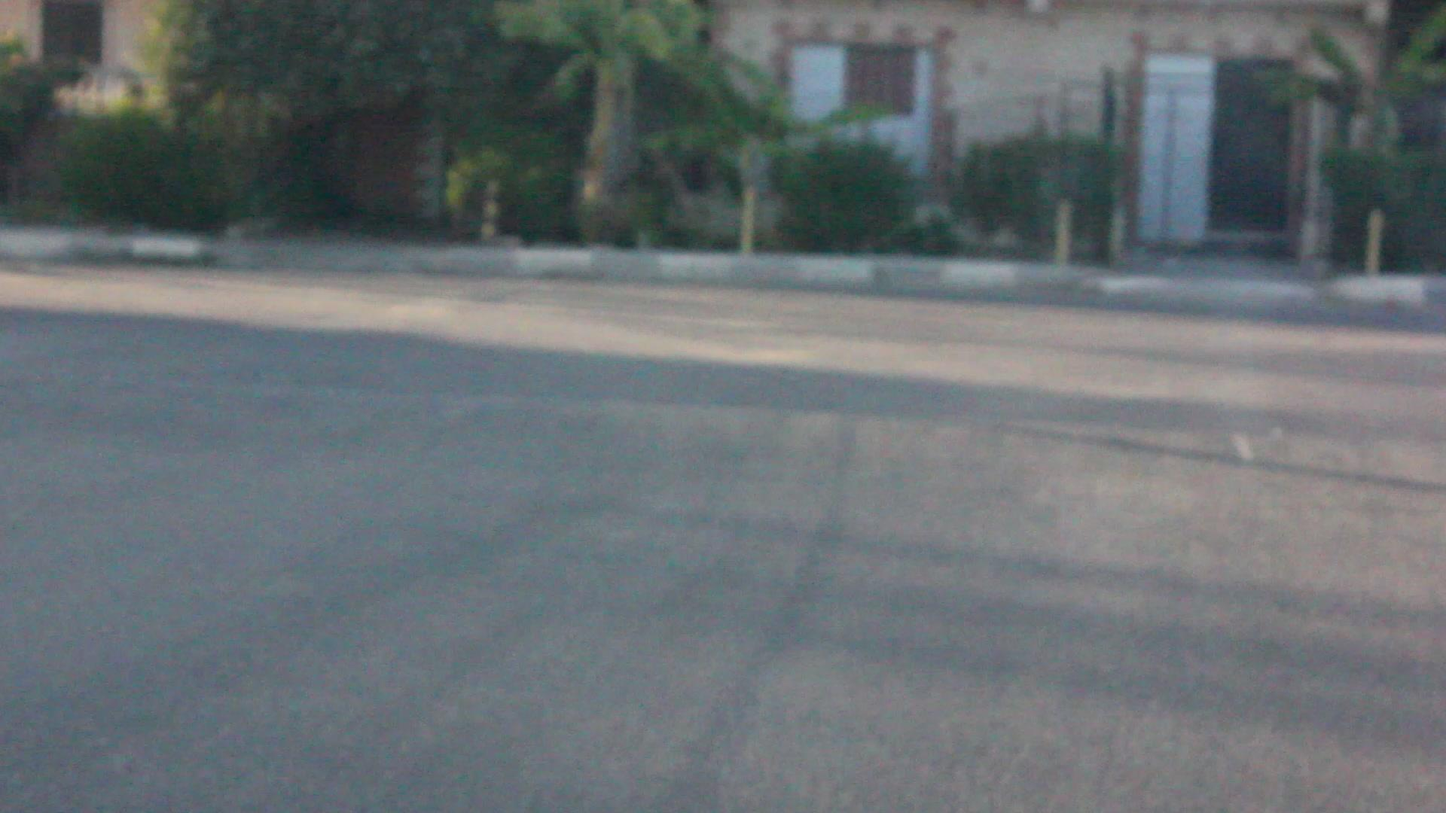Bump: (0, 365, 1446, 519)
